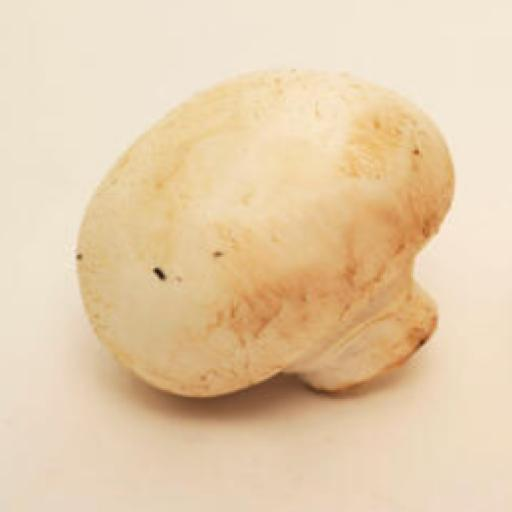mushroom: (65, 62, 463, 411)
